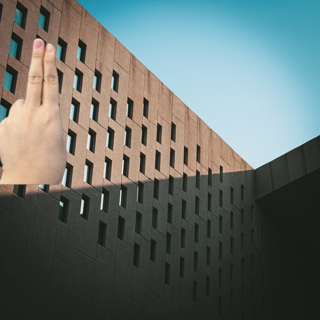DHAVE: (1, 34, 69, 182)
